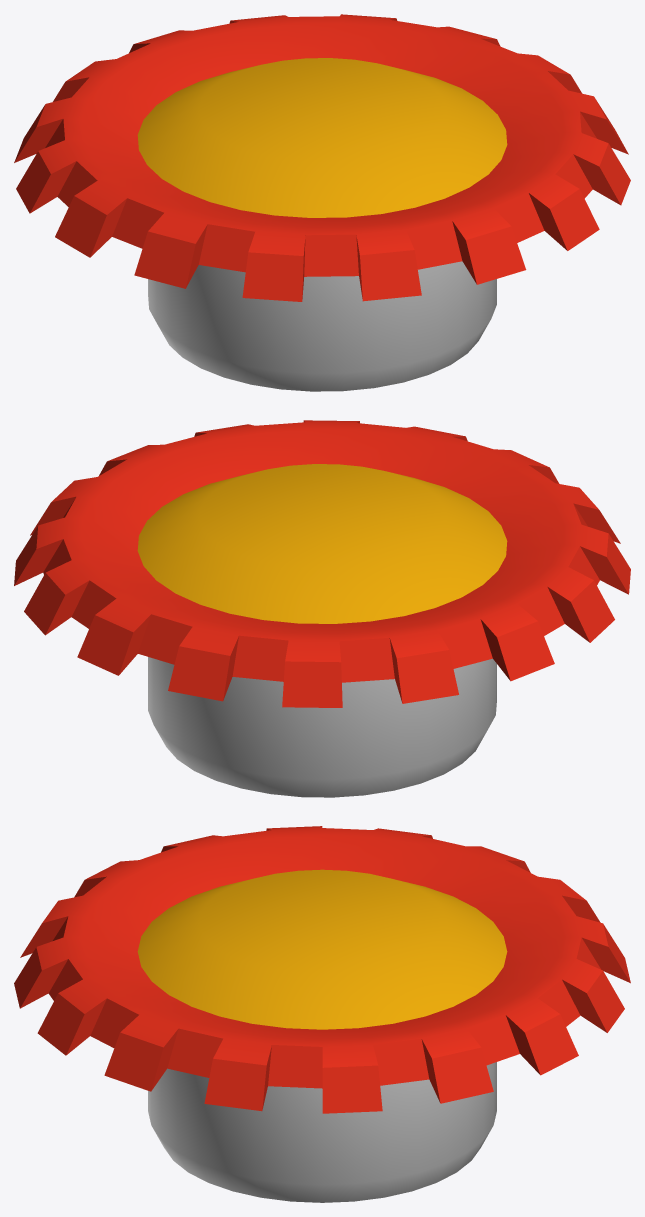
Rendered from pinbal_bouncer.fbx.
3 renders of one model, top to bottom at view 1: azimuth 30°, elevation 25°; view 2: azimuth 150°, elevation 25°; view 3: azimuth 270°, elevation 25°, orthographic.
Visible parts, largest first — view 1: Circle.001; view 2: Circle.001; view 3: Circle.001.
Boxes of the visible parts, x1,y1,x2,y2 form: Circle.001: (14, 14, 630, 391); Circle.001: (14, 420, 630, 797); Circle.001: (14, 826, 630, 1202).
Bounding box in the file's own units: 40.08 × 15.26 × 40.08.
